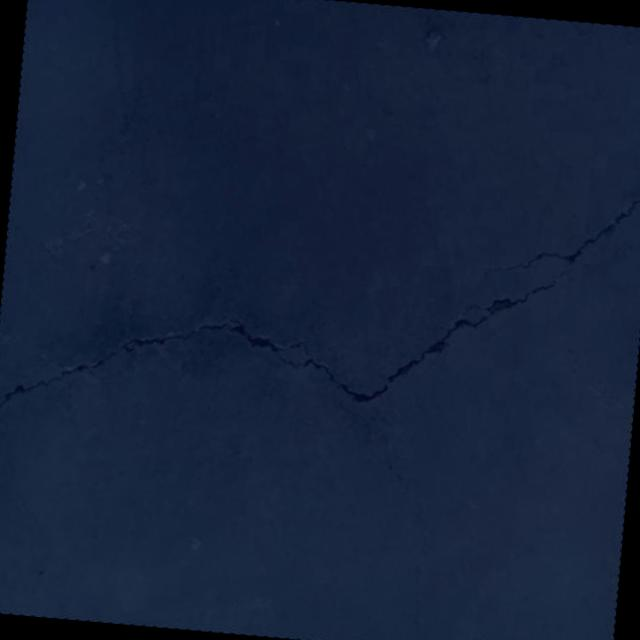crack: (0, 136, 640, 464), (342, 415, 439, 640)
